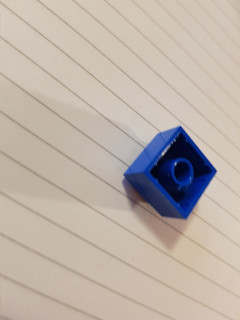2x2 blue: (121, 124, 219, 222)
